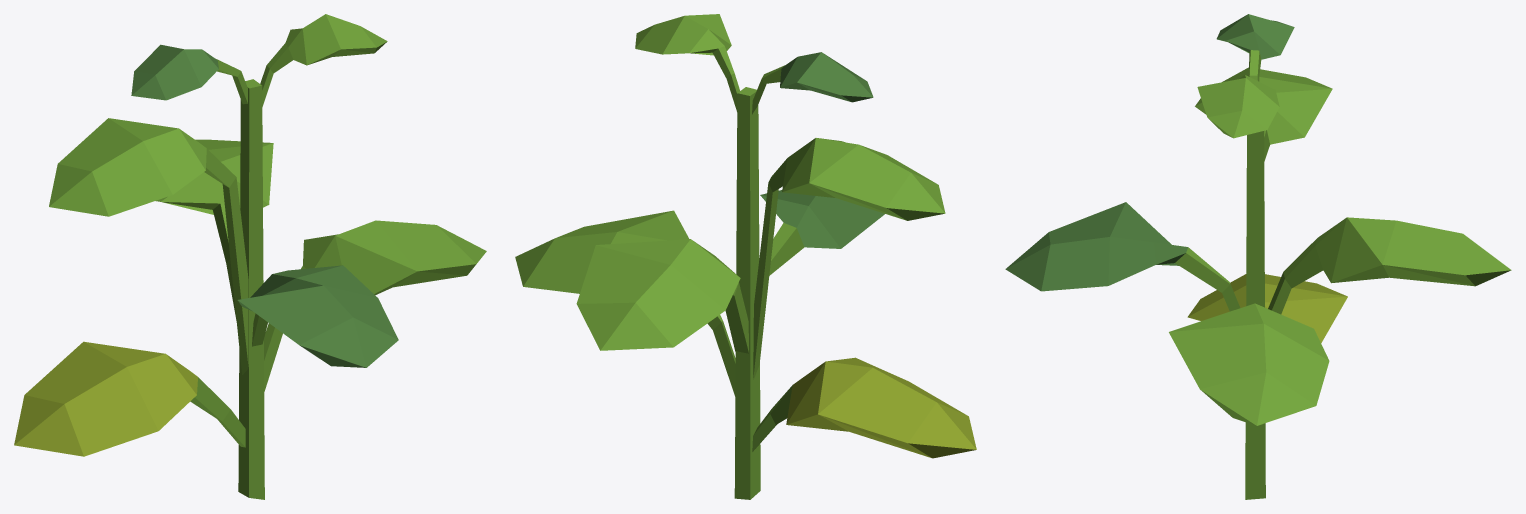
File: EA_M_Env_Shrub_01b.fbx
The picture shows the model from 3 angles, left to right: view 1: azimuth 30°, elevation 25°; view 2: azimuth 150°, elevation 25°; view 3: azimuth 270°, elevation 25°; orthographic projection. The views are drawn at different scales.
Visible parts, largest first — view 1: EA_M_Env_Shrub_01b_LOD0; view 2: EA_M_Env_Shrub_01b_LOD0; view 3: EA_M_Env_Shrub_01b_LOD0.
Part boxes in pixels (box(x1,y1,x2,y2)): EA_M_Env_Shrub_01b_LOD0: box(14, 14, 486, 499); EA_M_Env_Shrub_01b_LOD0: box(515, 14, 976, 499); EA_M_Env_Shrub_01b_LOD0: box(1005, 14, 1511, 499).
Size of what is drawn, in the model's own units: 0.7551 by 0.7205 by 0.7337.
